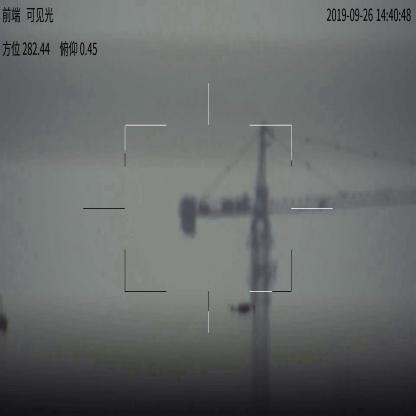uav: (227, 298, 257, 320)
